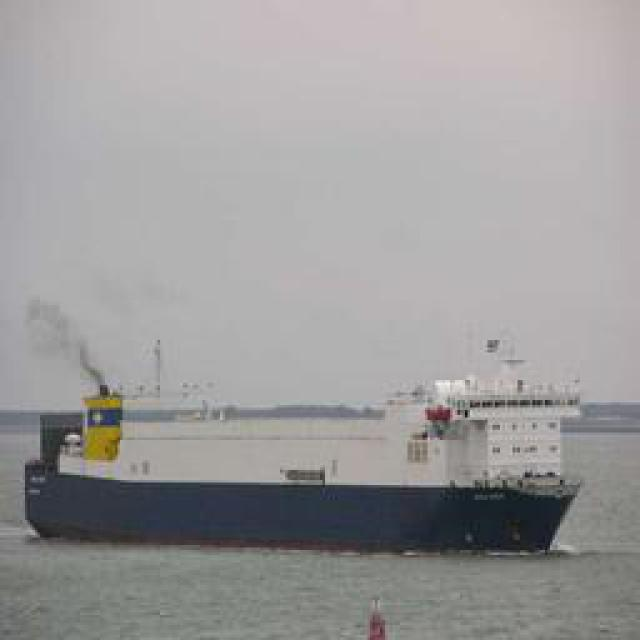Ship: (33, 392, 588, 552)
